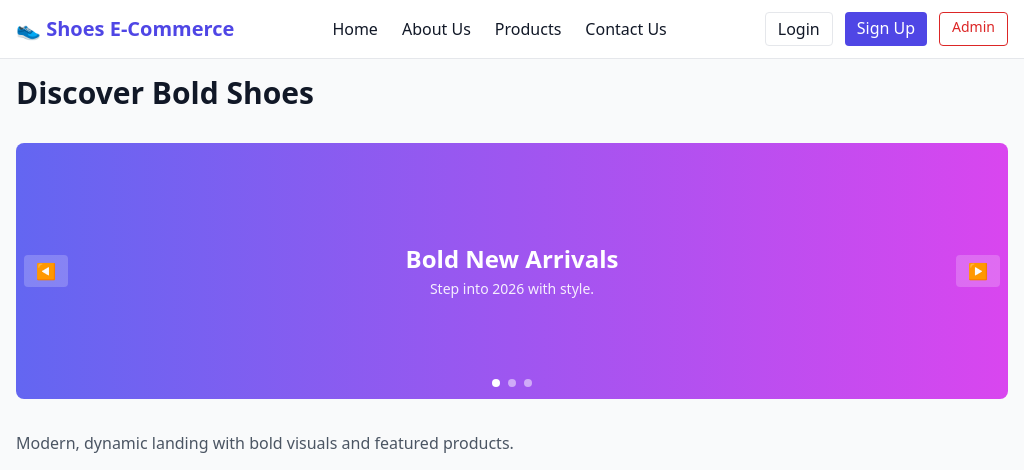
Test: navbar renders and routes to About and Contact
The image size is (1024, 470).
Expected: the link "Home" is shown, [332, 17, 378, 41]
Expected: the link "Products" is shown, [495, 17, 561, 41]
Navigate to About
Click the link "About Us" at point(436, 29), box [402, 17, 471, 41]
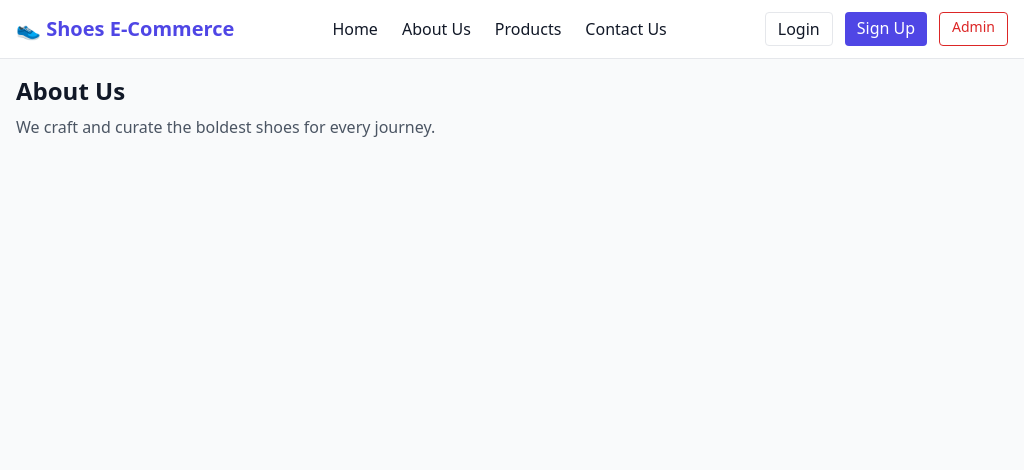
Expected: the heading "About Us" is shown, [16, 74, 125, 107]
Navigate to Contact
Click the link "Contact Us" at point(626, 29), box [585, 17, 667, 41]
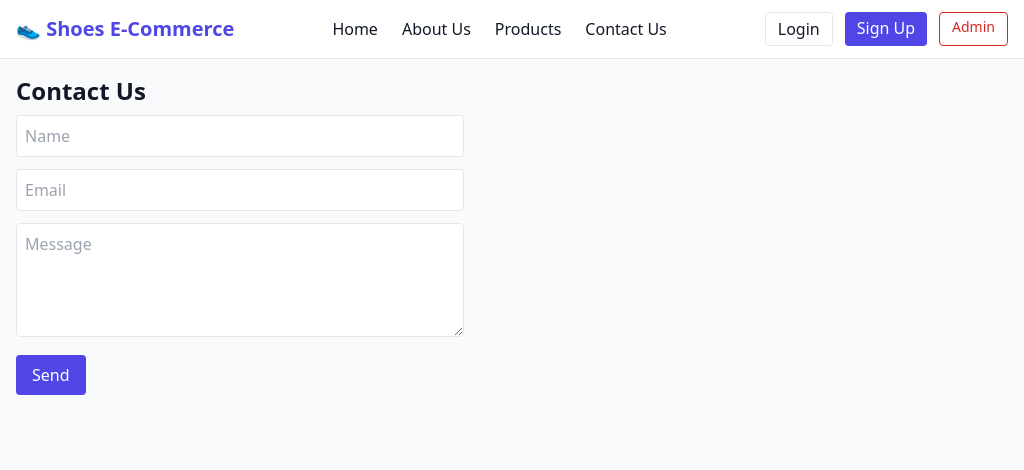
Expected: the heading "Contact Us" is shown, [16, 74, 146, 107]
